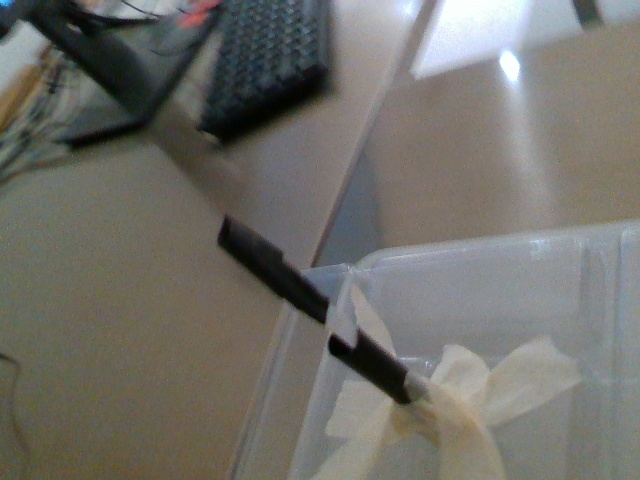test_strip: (215, 214, 358, 348)
